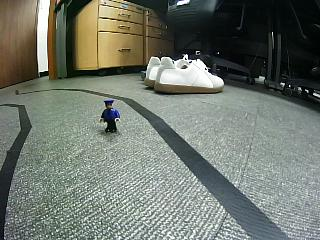person: (99, 99, 120, 133)
